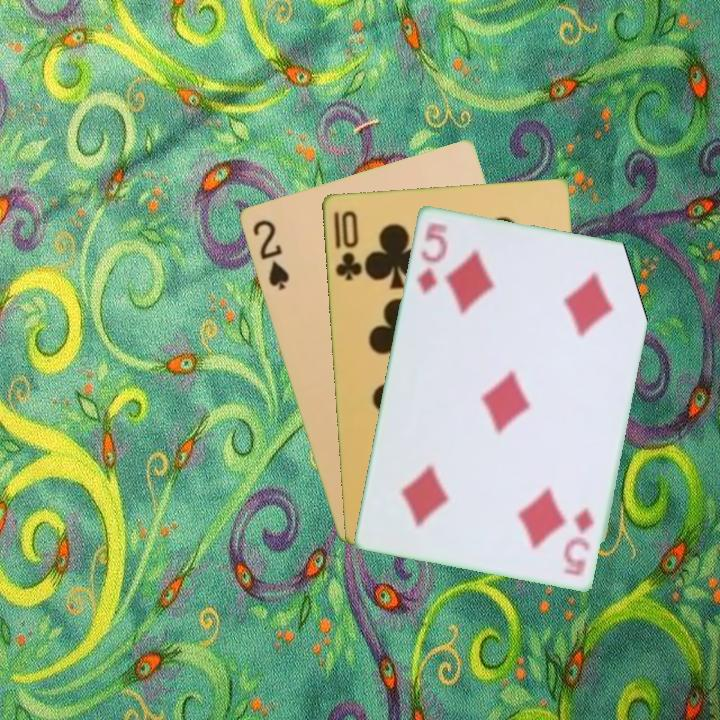10c: (330, 207, 364, 284)
2s: (248, 215, 292, 293)
5d: (413, 218, 450, 297), (560, 503, 596, 579)
